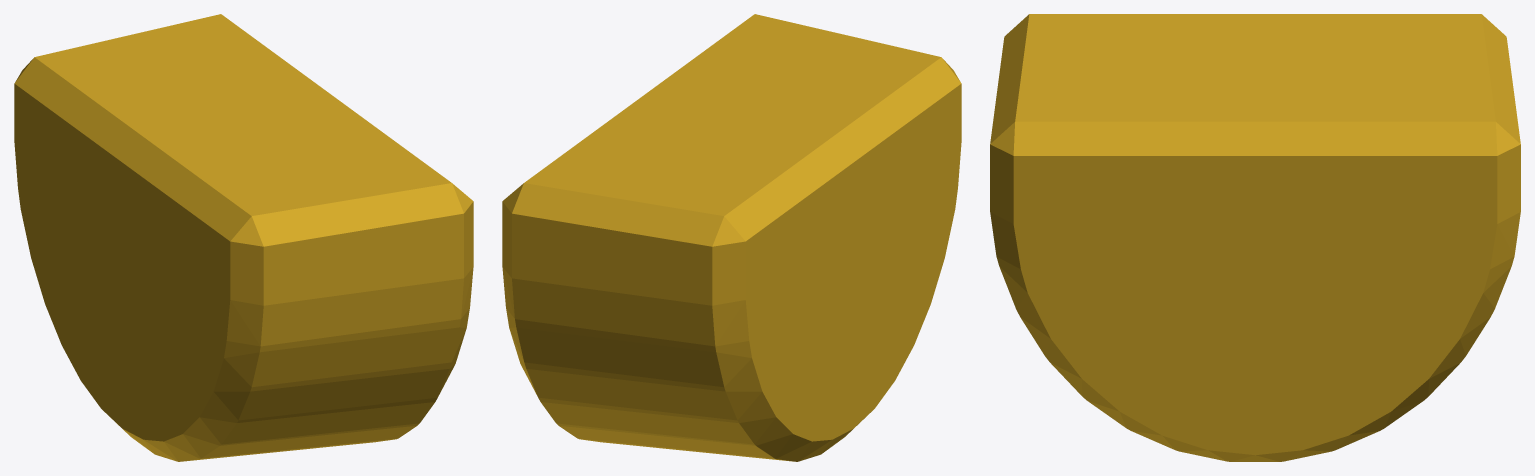
Rendered from VIS_HandInterfaceMiddle.dae.
3 views of the same model, side by side, from view 1: azimuth 30°, elevation 25°; view 2: azimuth 150°, elevation 25°; view 3: azimuth 270°, elevation 25° (orthographic). The views are drawn at different scales.
Parts seen in each view (by area): view 1: VIS_HandInterfaceMiddle; view 2: VIS_HandInterfaceMiddle; view 3: VIS_HandInterfaceMiddle.
Boxes of the visible parts, x1,y1,x2,y2 form: VIS_HandInterfaceMiddle: (14,14,473,461); VIS_HandInterfaceMiddle: (502,14,961,461); VIS_HandInterfaceMiddle: (990,14,1520,461).
Size of the model in its own units: 0.0144 by 0.027 by 0.0196.
